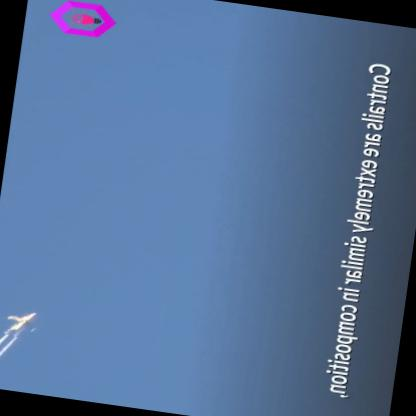plane: (4, 302, 40, 339)
